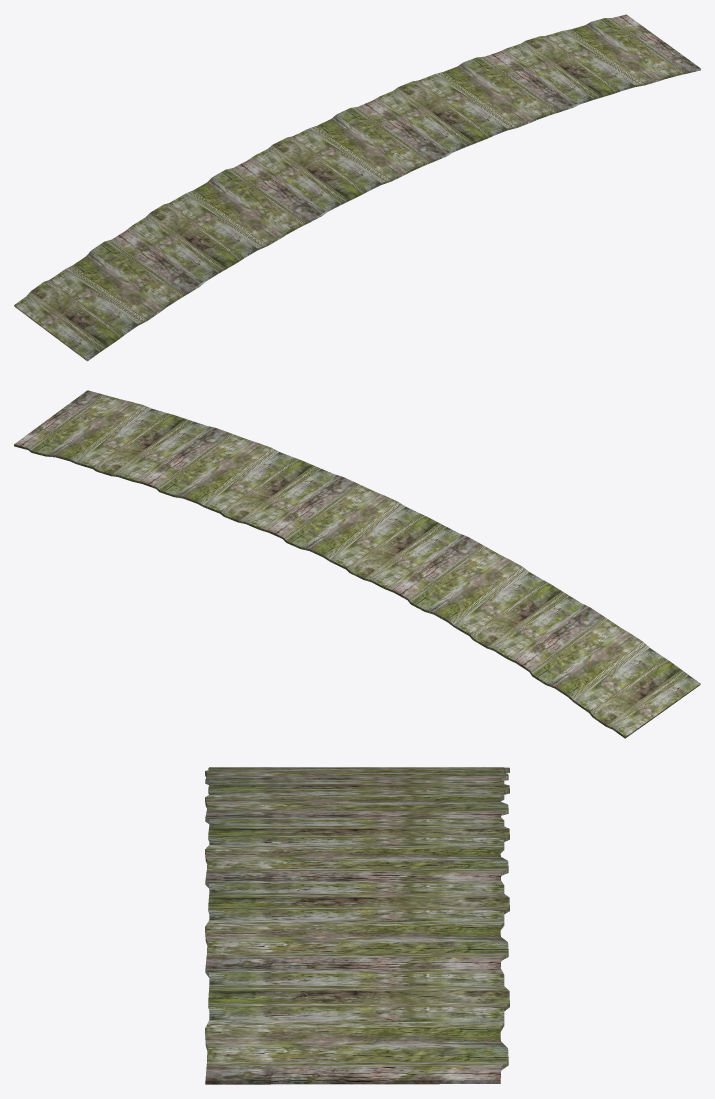
Rendered from RAMP.fbx.
The picture shows the model from 3 angles, top to bottom: view 1: azimuth 30°, elevation 25°; view 2: azimuth 150°, elevation 25°; view 3: azimuth 270°, elevation 25°; orthographic projection. The views are drawn at different scales.
Visible parts, largest first — view 1: ramp; view 2: ramp; view 3: ramp.
Boxes of the visible parts, x1,y1,x2,y2 form: ramp: [14, 14, 700, 361]; ramp: [14, 390, 700, 738]; ramp: [205, 767, 509, 1084].
Bounding box in the file's own units: 958 × 216 × 206.
